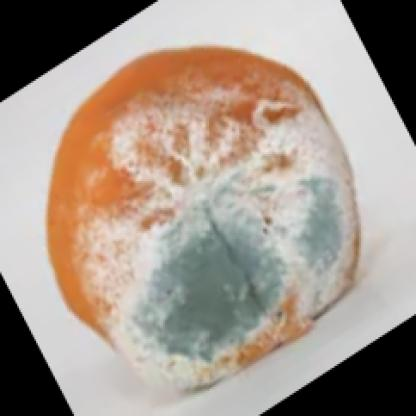rotten: (48, 47, 361, 394)
